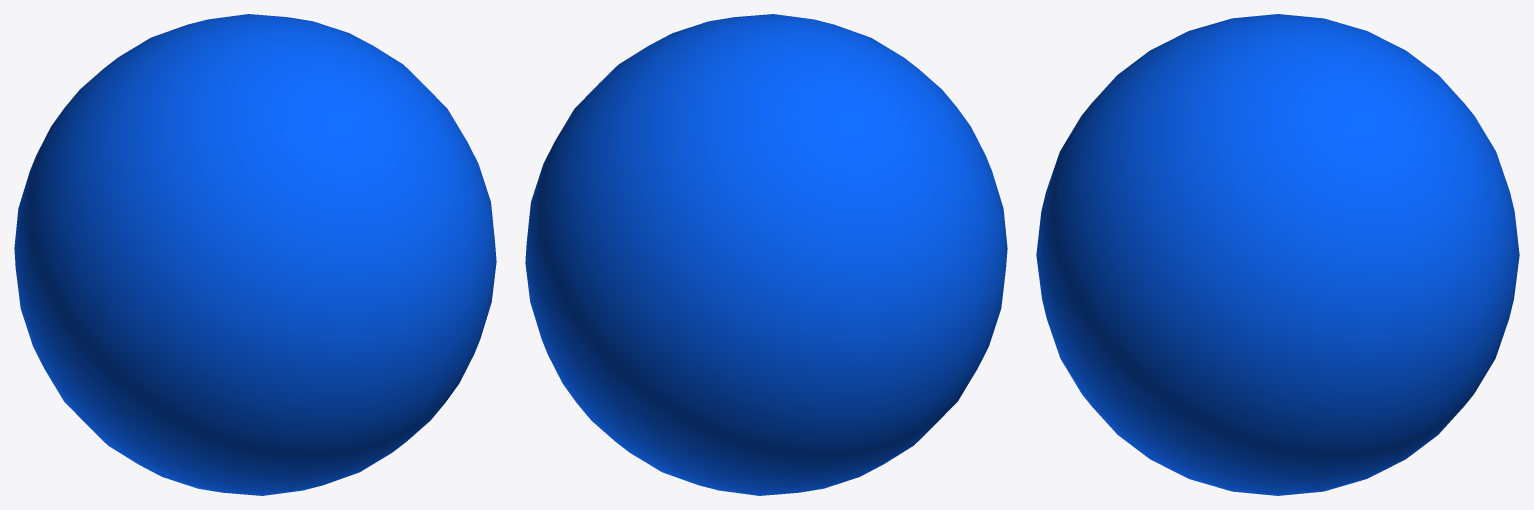
File: Sheald.obj
3 renders of one model, left to right at view 1: azimuth 30°, elevation 25°; view 2: azimuth 150°, elevation 25°; view 3: azimuth 270°, elevation 25°, orthographic.
Visible parts, largest first — view 1: Shield; view 2: Shield; view 3: Shield.
Part boxes in pixels (<box>): Shield: <box>14,14,496,495</box>; Shield: <box>525,14,1007,495</box>; Shield: <box>1036,14,1519,495</box>.
Size of the model in its own units: 4.72 by 4.72 by 4.72.
